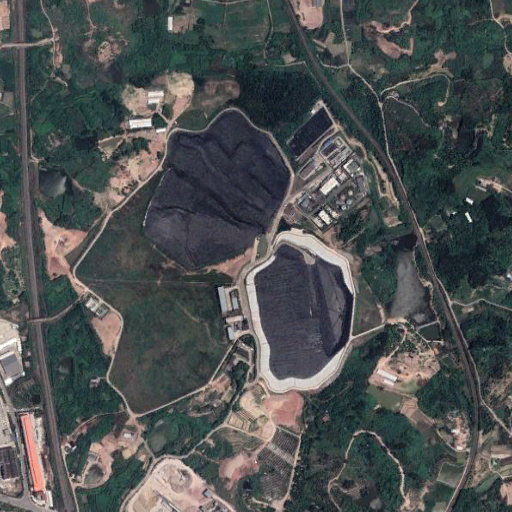lf: (142, 106, 296, 273), (245, 227, 357, 394)
